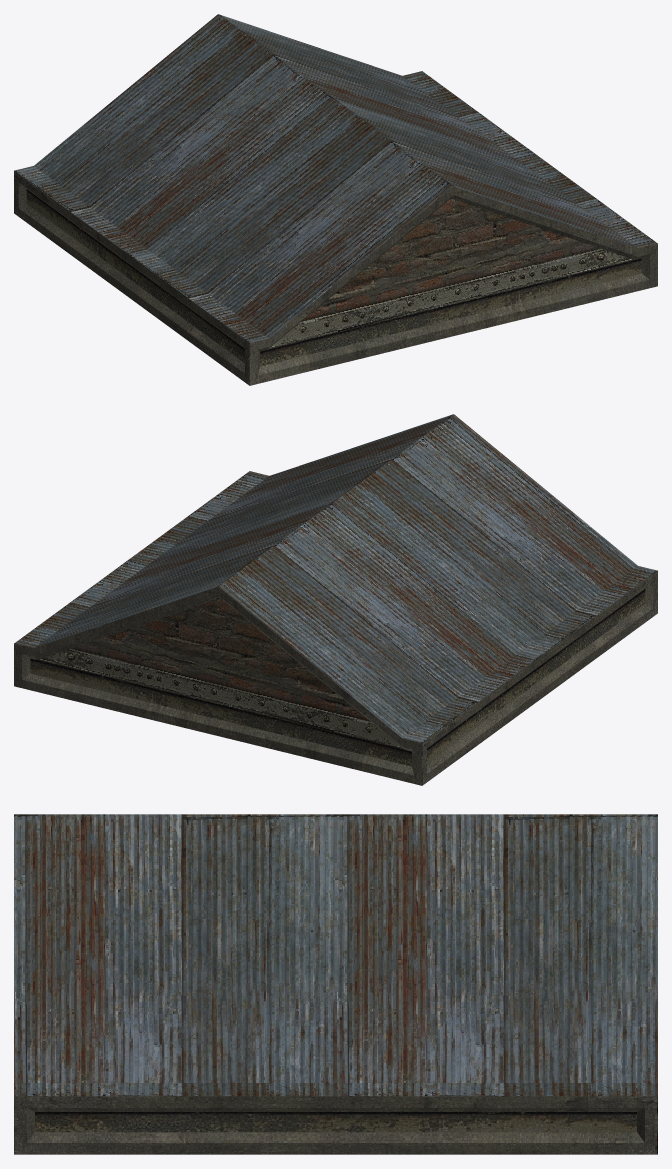
The model's file is roof_bx_2.glb.
The picture shows the model from 3 angles, top to bottom: view 1: azimuth 30°, elevation 25°; view 2: azimuth 150°, elevation 25°; view 3: azimuth 270°, elevation 25°; orthographic projection. The views are drawn at different scales.
Visible parts, largest first — view 1: roof_bx_2; view 2: roof_bx_2; view 3: roof_bx_2.
Part boxes in pixels (<box>): roof_bx_2: <box>14,14,657,385</box>; roof_bx_2: <box>14,414,657,785</box>; roof_bx_2: <box>14,814,657,1154</box>.
Size of the model in its own units: 4 by 1.4 by 4.
Materials: 3 (3 with a texture image).
